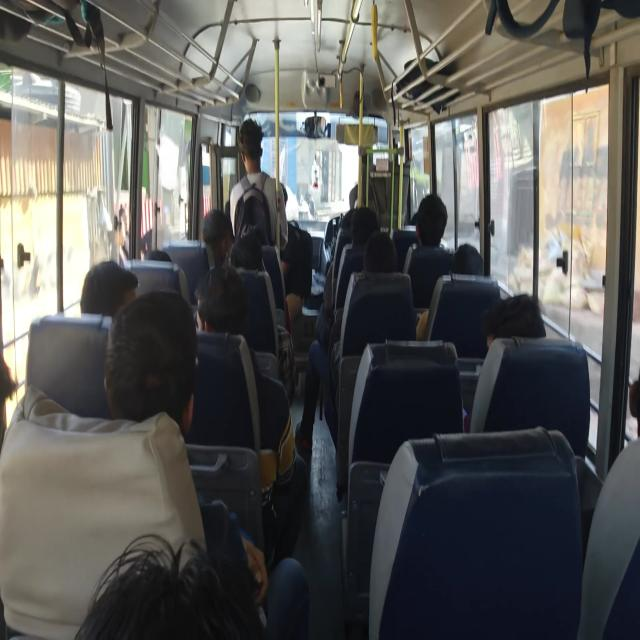person: (94, 494, 360, 640), (107, 297, 202, 436), (79, 260, 162, 353), (486, 280, 554, 351), (203, 266, 247, 354), (446, 229, 494, 302), (267, 174, 306, 250), (138, 240, 187, 284), (363, 228, 398, 266), (235, 231, 262, 278), (223, 122, 249, 170), (413, 200, 446, 236), (196, 219, 223, 255), (232, 222, 268, 244), (348, 208, 370, 234), (408, 201, 426, 224)
